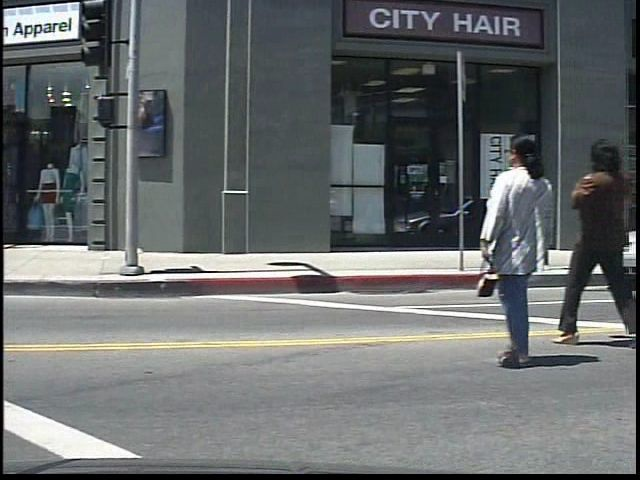person: (489, 120, 573, 370), (563, 125, 637, 351)
